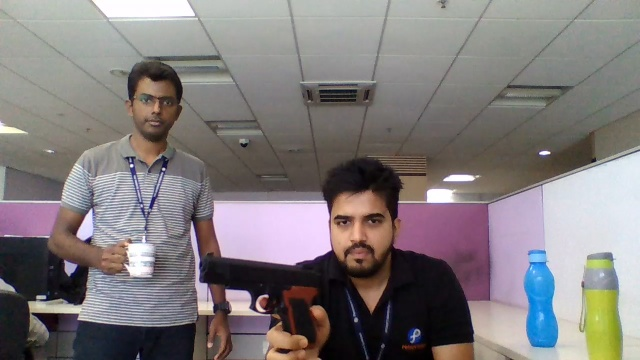gun: (199, 253, 315, 338)
